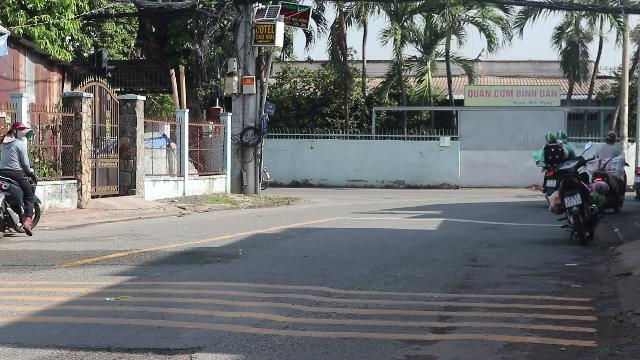helmet: (3, 122, 35, 146)
motorcyclist: (0, 108, 42, 241)
